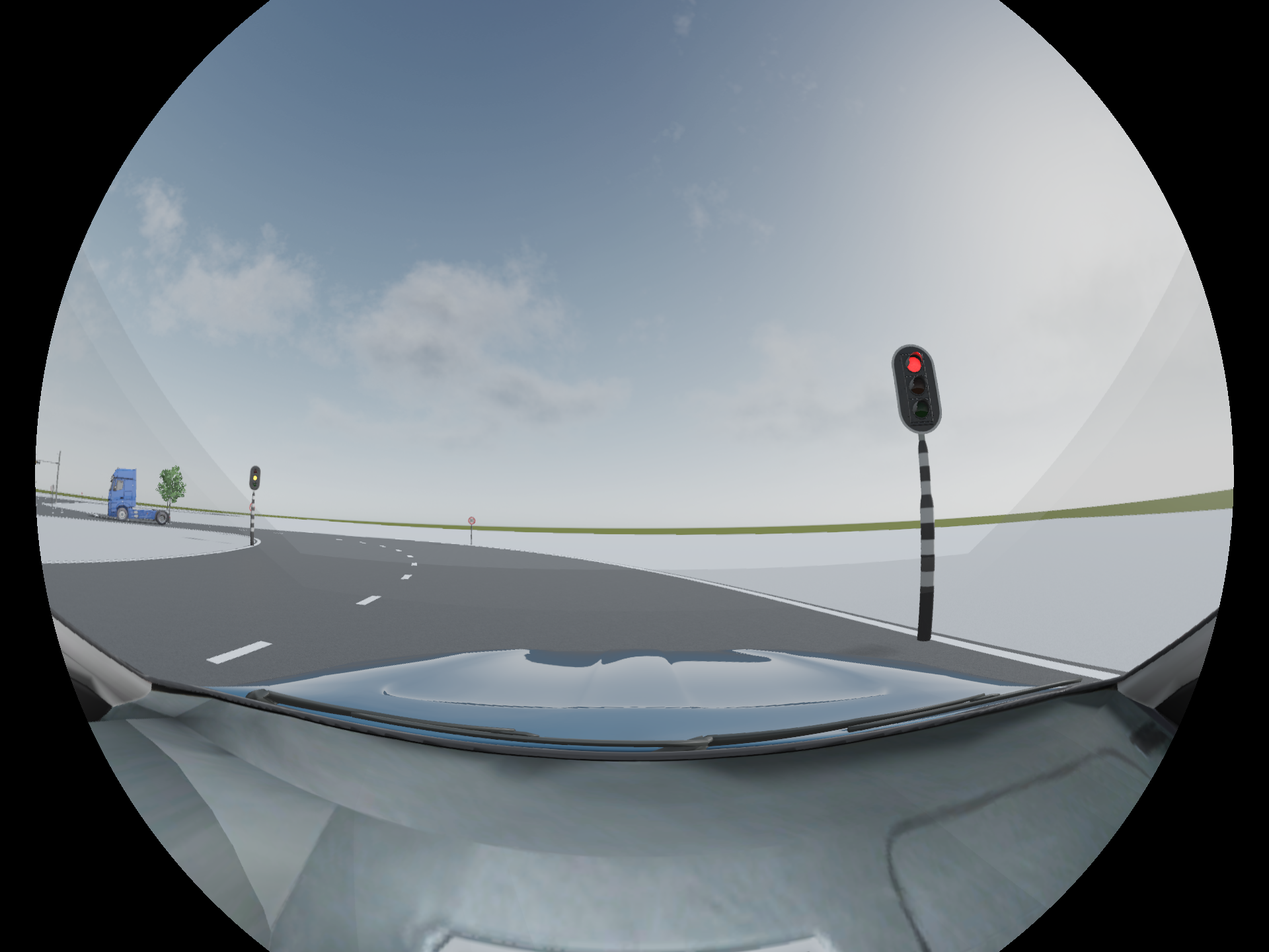Red Light: (894, 344, 941, 434)
Speed Limit 80: (469, 517, 475, 525)
